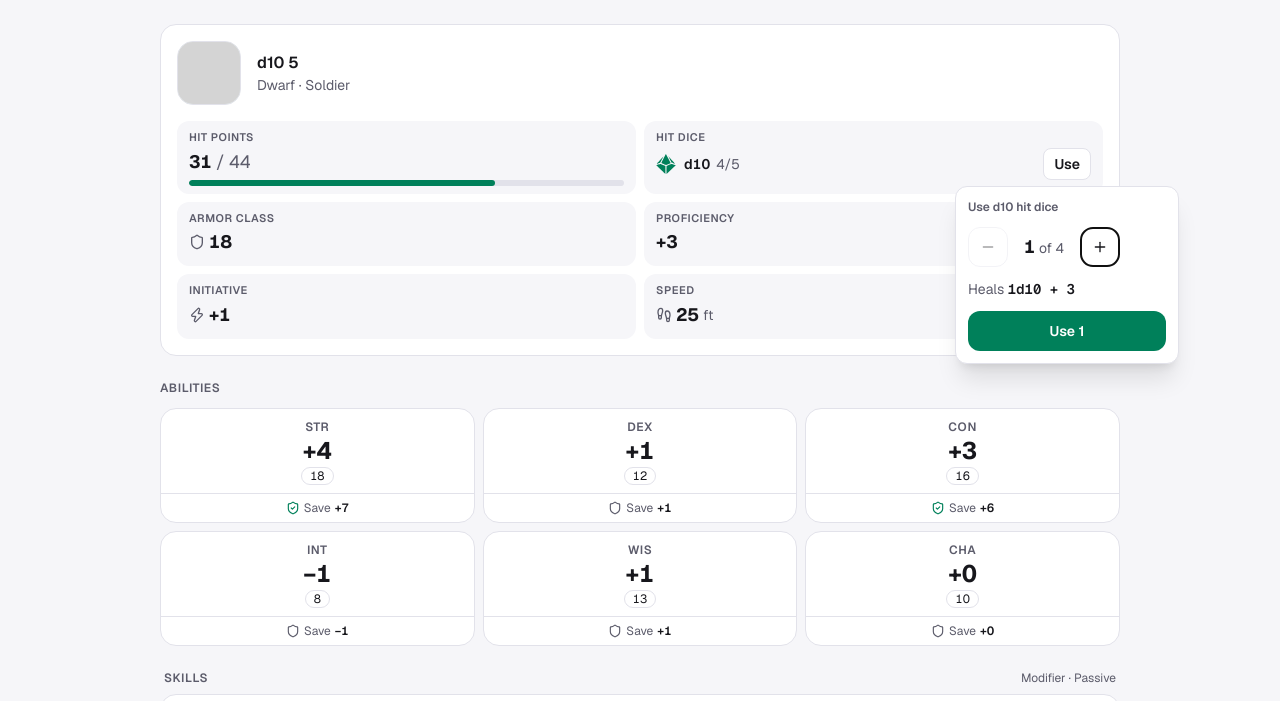
components/character-sheet/character-sheet › hit dice › uses several at once from a popover, opened with a right-click
The image size is (1280, 701).
What coordinates should you click on to do the following:
click the button named "One die more"
I would click on:
 (1100, 247)
Its box is [1080,227,1120,267].
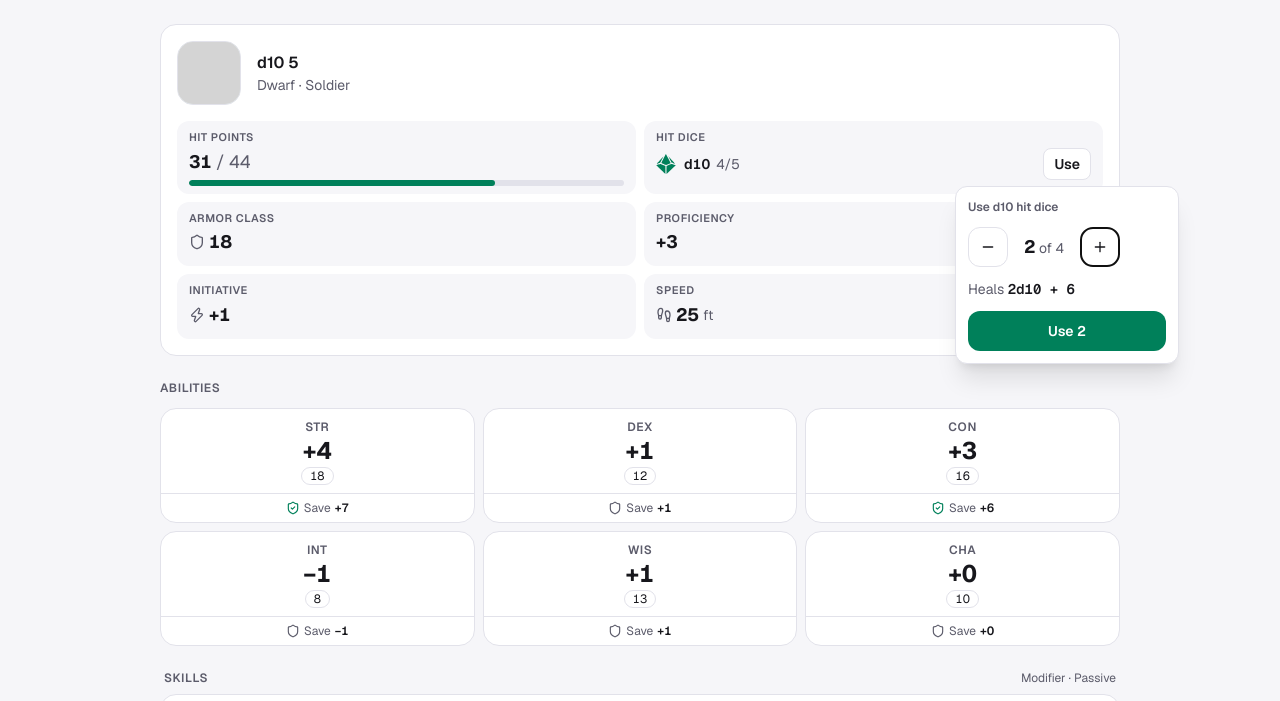
What coordinates should you click on to do the following:
click the button named "One die more"
I would click on:
 (1100, 247)
Its box is [1080,227,1120,267].
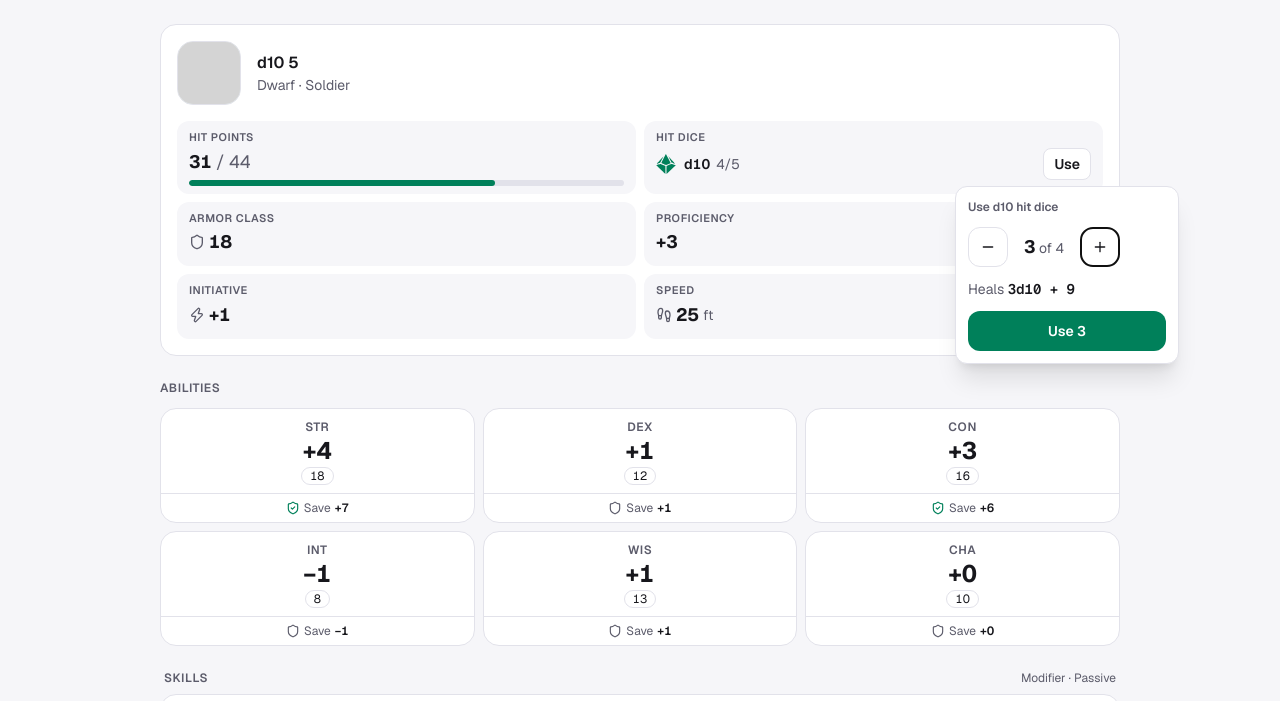
Result: the dialog "Use d10 hit dice" shows "Heals 3d10 + 9" at [955,186,1179,364]
What coordinates should you click on to do the following:
click the button named "Use 3 d10 hit dice"
I would click on:
 (1067, 331)
Its box is [968,311,1166,351].
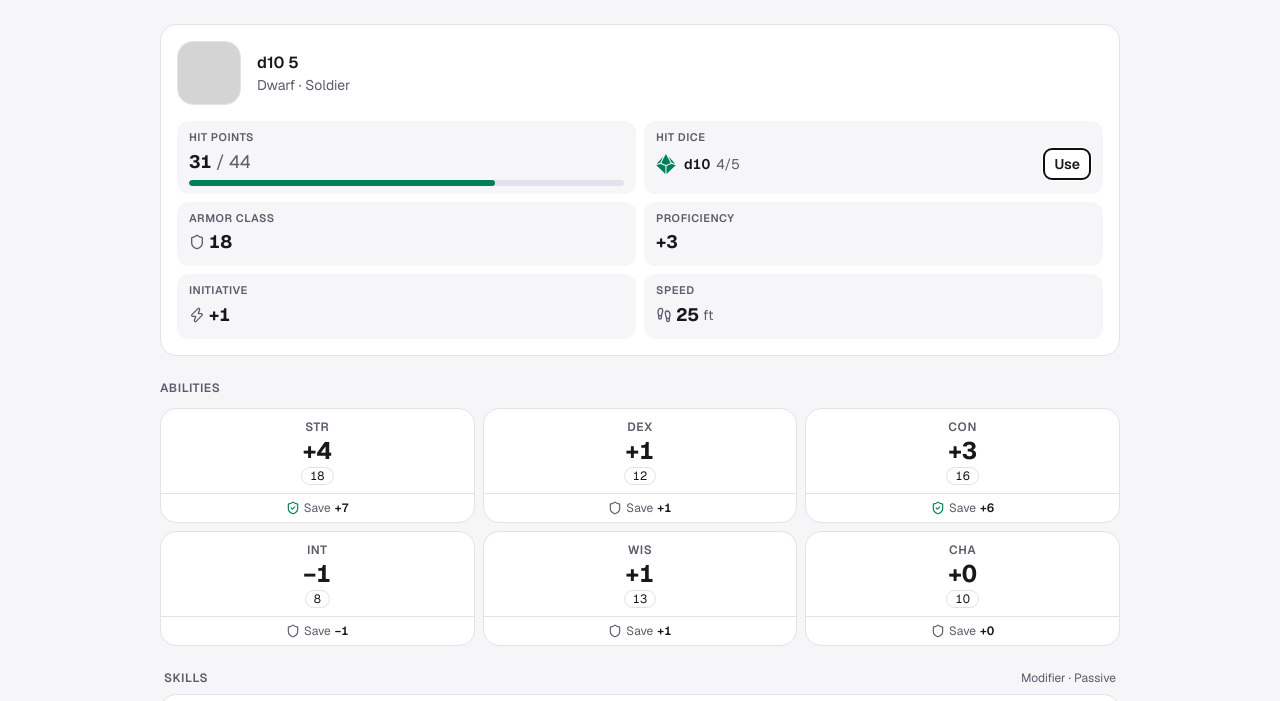
Result: the dialog is gone
